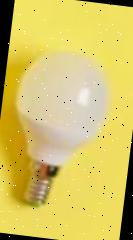lightbulb: (1, 45, 116, 213)
